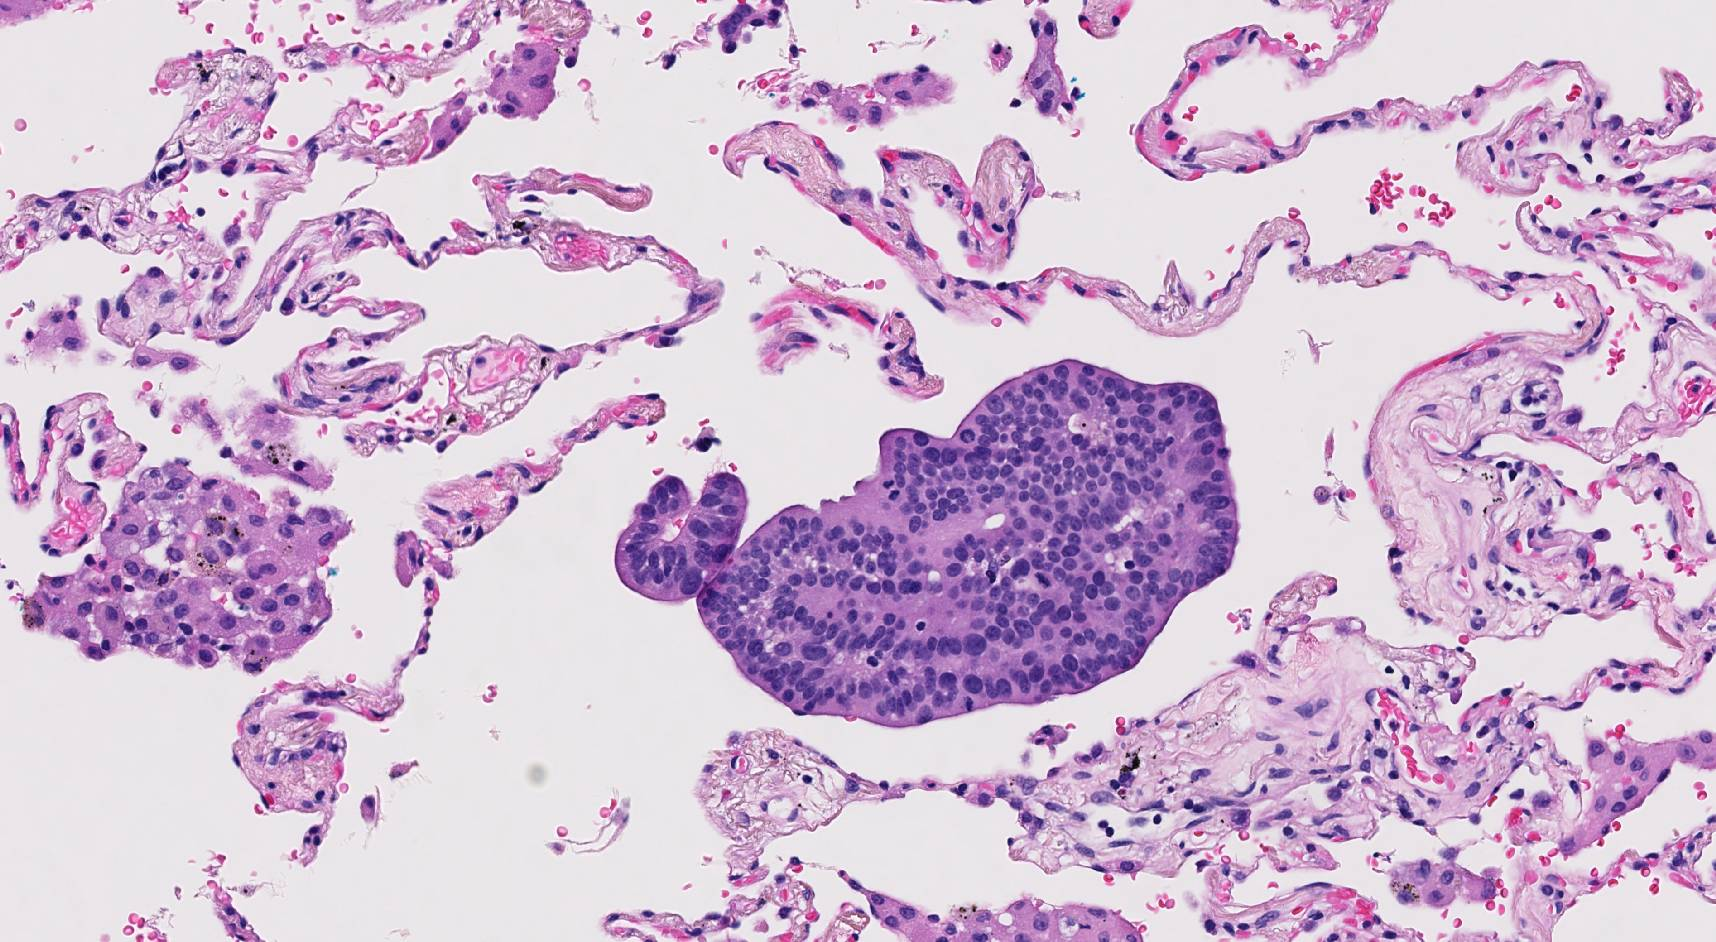stas: (696, 362, 1241, 729), (616, 468, 746, 605), (717, 2, 789, 55)
